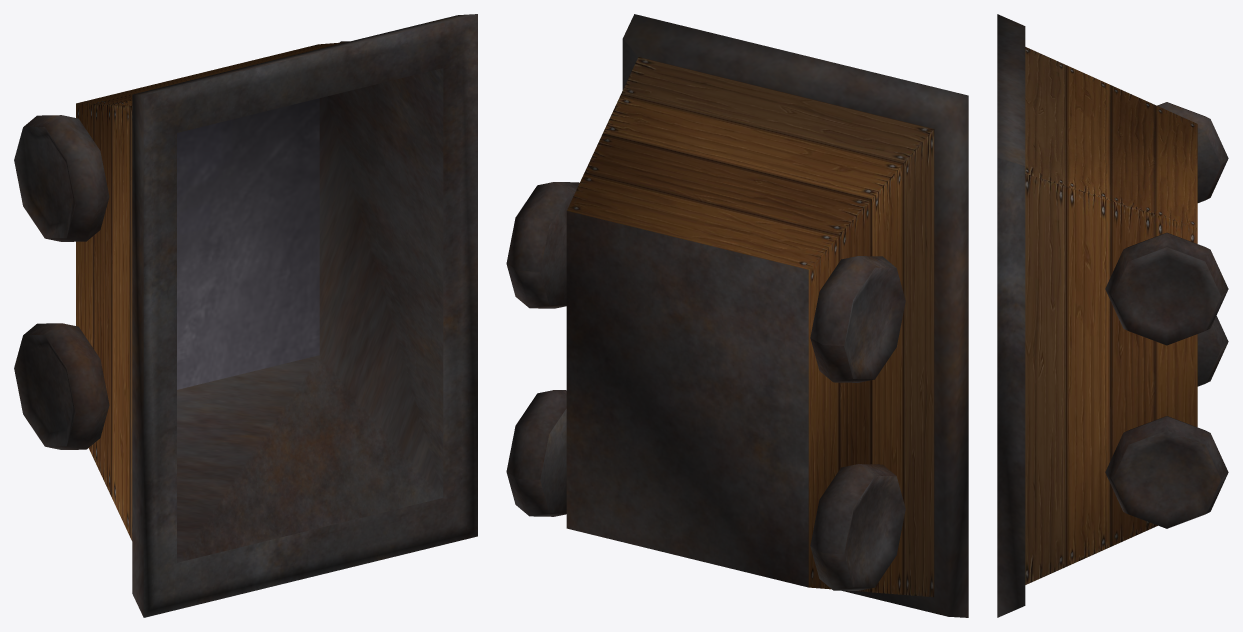
The model's file is MineKart.fbx.
The picture shows the model from 3 angles, left to right: view 1: azimuth 30°, elevation 25°; view 2: azimuth 150°, elevation 25°; view 3: azimuth 270°, elevation 25°; orthographic projection. The views are drawn at different scales.
Visible parts, largest first — view 1: MineCart; view 2: MineCart; view 3: MineCart.
Boxes of the visible parts, x1,y1,x2,y2 form: MineCart: (14, 14, 477, 617); MineCart: (506, 14, 968, 617); MineCart: (997, 14, 1228, 617).
Bounding box in the file's own units: 55.05 × 81.4 × 37.06.
Materials: 1 (1 with a texture image).
